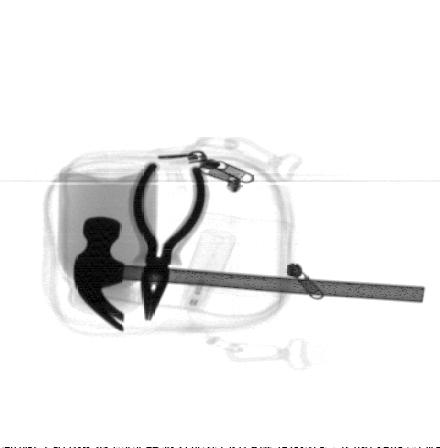Hammer: (71, 216, 424, 332)
Pliers: (128, 161, 210, 322)
